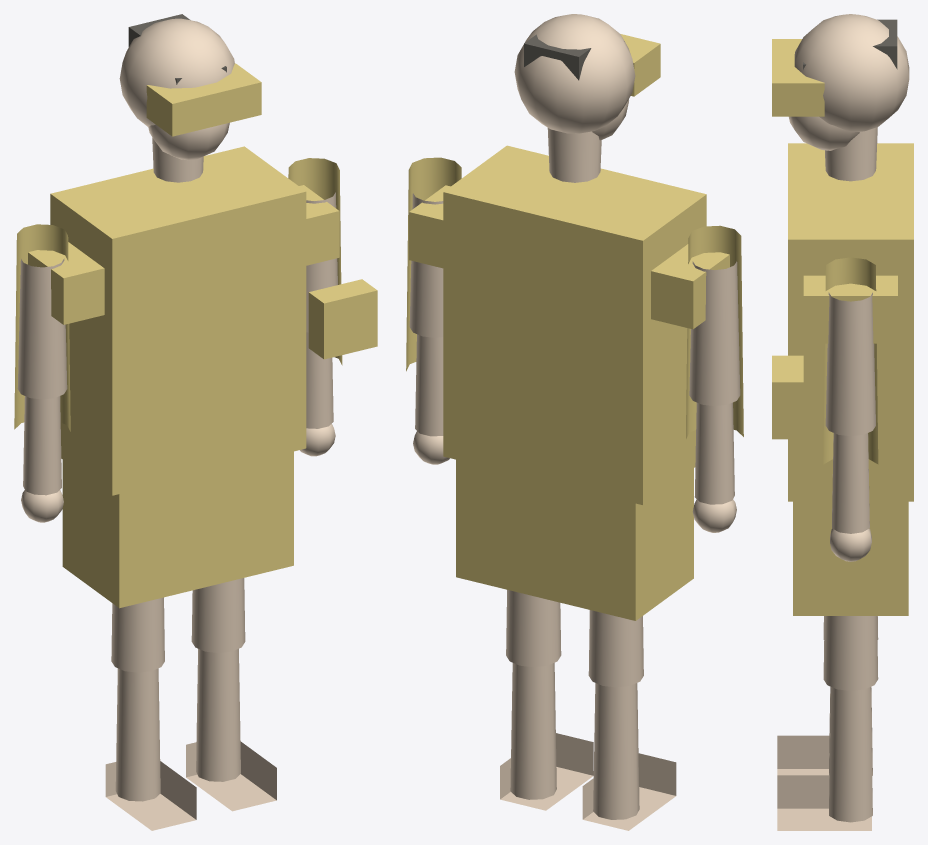
The model's file is body.glb.
3 renders of one model, left to right at view 1: azimuth 30°, elevation 25°; view 2: azimuth 150°, elevation 25°; view 3: azimuth 270°, elevation 25°, orthographic. The views are drawn at different scales.
Visible parts, largest first — view 1: Metal, Skin; view 2: Metal, Skin, Hair; view 3: Metal, Skin, Hair.
Boxes of the visible parts, x1,y1,x2,y2 form: Metal: (14,63,377,608); Skin: (17,18,337,830); Metal: (406,34,743,620); Skin: (409,14,740,830); Hair: (524,34,624,80); Metal: (772,39,913,615); Skin: (777,14,909,830); Hair: (803,19,897,69).
Size of the model in its own units: 0.7194 by 1.64 by 0.27.
